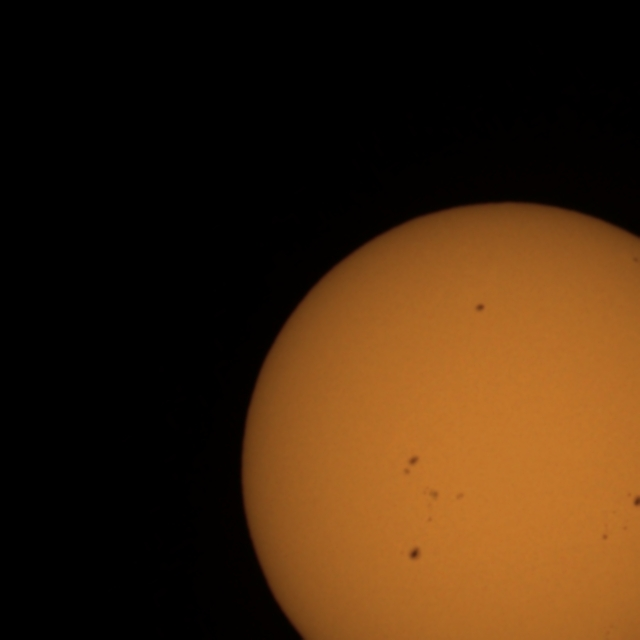sunspot: (401, 454, 421, 477), (420, 485, 441, 504), (406, 544, 422, 564), (626, 490, 640, 509), (604, 622, 616, 638), (454, 490, 466, 502), (474, 302, 486, 314), (600, 532, 610, 542), (631, 254, 640, 265), (620, 524, 628, 532), (426, 516, 434, 524)
